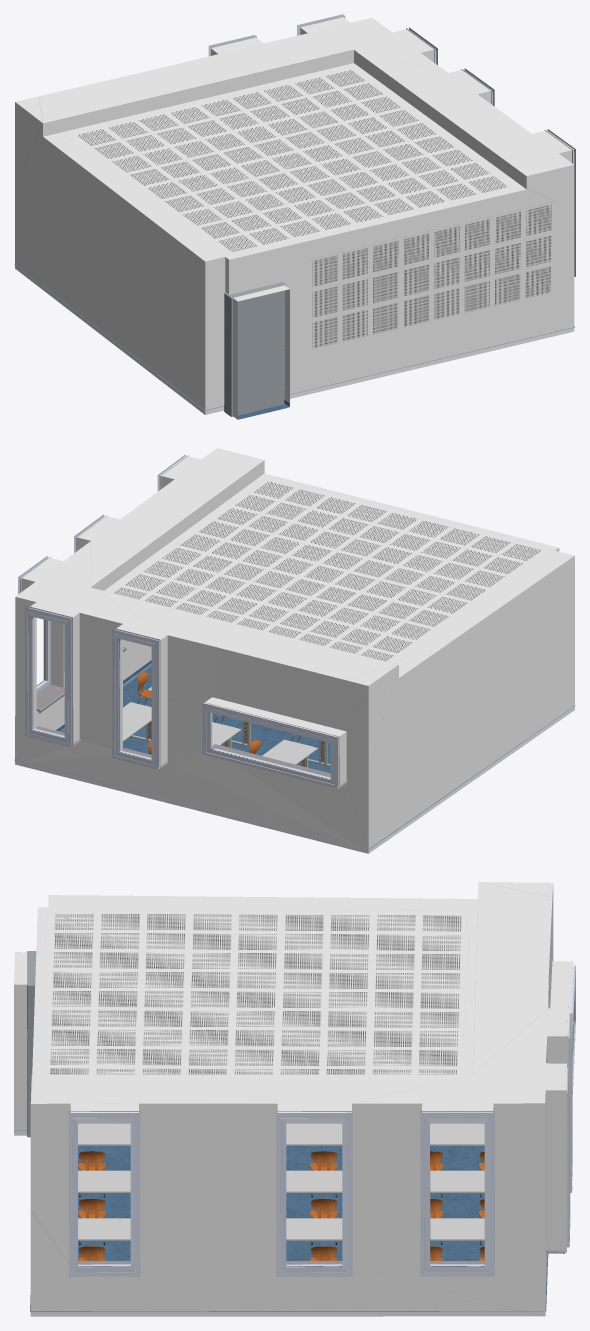
The picture shows the model from 3 angles, top to bottom: view 1: azimuth 30°, elevation 25°; view 2: azimuth 150°, elevation 25°; view 3: azimuth 270°, elevation 25°; orthographic projection. The views are drawn at different scales.
Visible parts, largest first — view 1: SM_EB408, SM_Door, SM_DoorFrame; view 2: SM_EB408, SM_Table.007, SM_Table.001; view 3: SM_EB408, SM_Table.002, SM_Table.008, SM_Table.005, SM_Table.001, SM_Table.004, SM_Table.007, SM_Table.003, SM_Table.006, SM_Table.009, SM_DoorFrame.
Part boxes in pixels (x1=…): SM_EB408: x1=14, y1=14, x2=575, y2=419; SM_Door: x1=237, y1=290, x2=284, y2=415; SM_DoorFrame: x1=224, y1=282, x2=286, y2=416; SM_EB408: x1=14, y1=448, x2=575, y2=853; SM_Table.007: x1=123, y1=702, x2=151, y2=741; SM_Table.001: x1=262, y1=739, x2=317, y2=767; SM_EB408: x1=14, y1=882, x2=575, y2=1316; SM_Table.002: x1=286, y1=1123, x2=342, y2=1145; SM_Table.008: x1=286, y1=1218, x2=342, y2=1240; SM_Table.005: x1=286, y1=1170, x2=342, y2=1192; SM_Table.001: x1=430, y1=1123, x2=484, y2=1145; SM_Table.004: x1=430, y1=1170, x2=484, y2=1192; SM_Table.007: x1=430, y1=1218, x2=484, y2=1240; SM_Table.003: x1=78, y1=1123, x2=130, y2=1145; SM_Table.006: x1=78, y1=1170, x2=130, y2=1192; SM_Table.009: x1=78, y1=1218, x2=130, y2=1240; SM_DoorFrame: x1=27, y1=951, x2=36, y2=1137.
Bounding box in the file's own units: 7.96 × 3.38 × 7.99.
7 materials, 7 textured.
